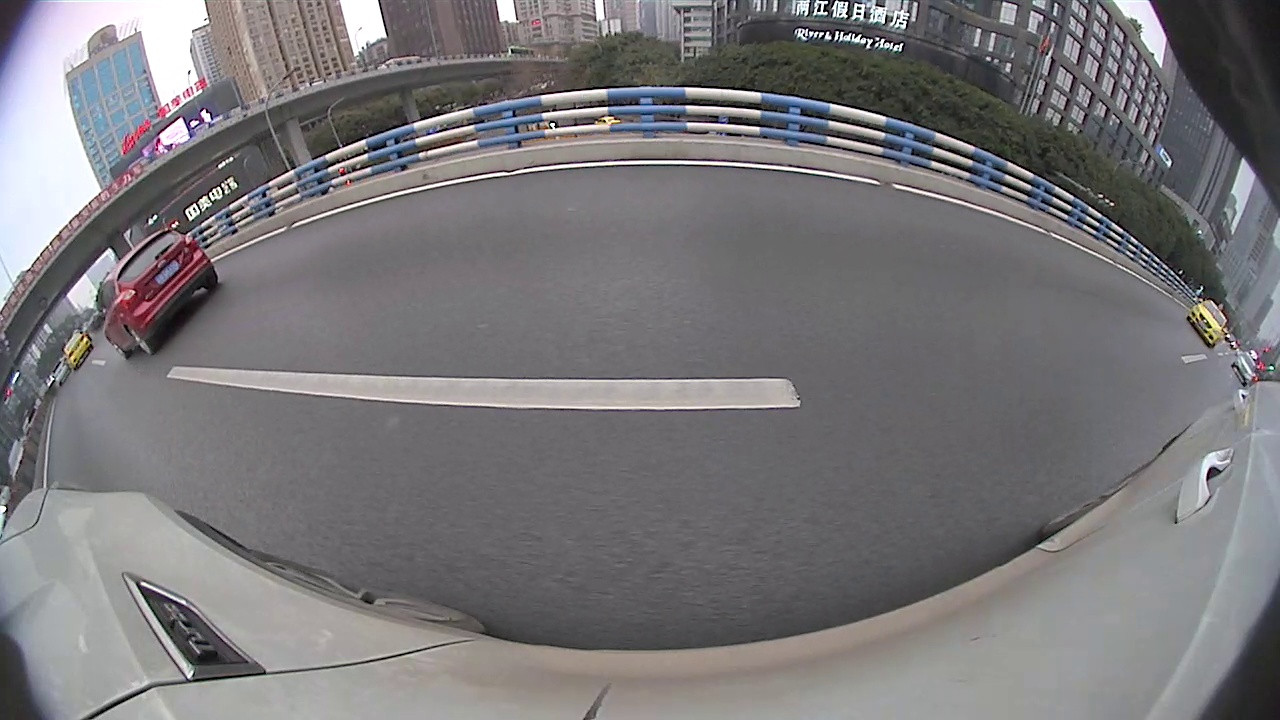car: (96, 226, 219, 360), (1183, 299, 1229, 351), (58, 328, 96, 371)
front: (106, 337, 130, 358)
rear: (124, 325, 154, 354)
